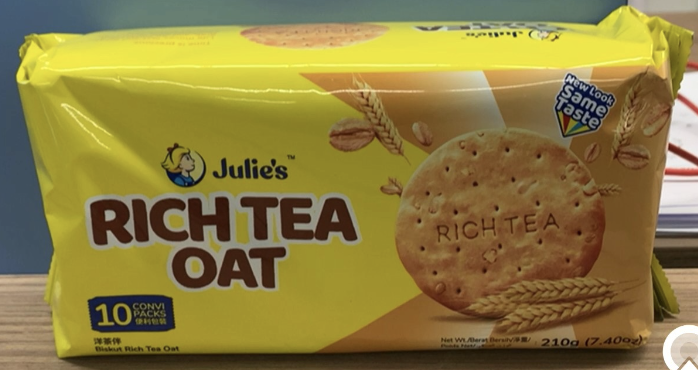cookies_150g: (62, 73, 632, 350)
